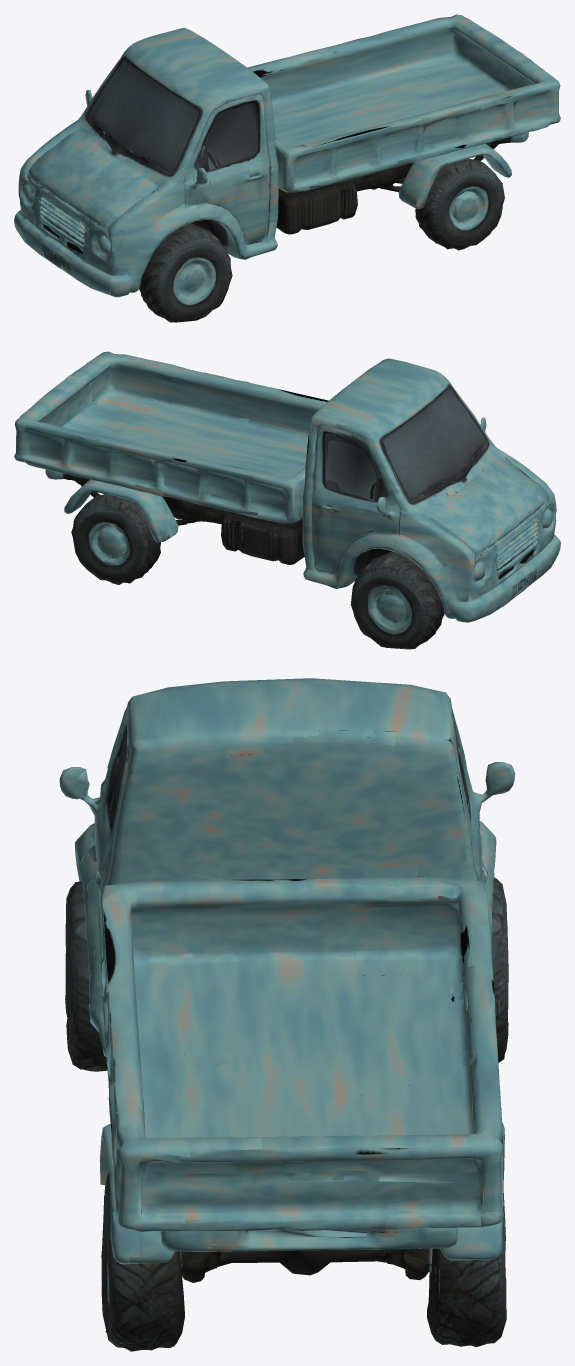
The model's file is truck.glb.
3 renders of one model, top to bottom at view 1: azimuth 30°, elevation 25°; view 2: azimuth 150°, elevation 25°; view 3: azimuth 270°, elevation 25°, orthographic. The views are drawn at different scales.
Visible parts, largest first — view 1: V17_TRUCK__TRUCK_FINAL; view 2: V17_TRUCK__TRUCK_FINAL; view 3: V17_TRUCK__TRUCK_FINAL.
Boxes of the visible parts, x1,y1,x2,y2 form: V17_TRUCK__TRUCK_FINAL: [14, 14, 560, 322]; V17_TRUCK__TRUCK_FINAL: [14, 351, 560, 649]; V17_TRUCK__TRUCK_FINAL: [59, 678, 515, 1351].
Size of the model in its own units: 4.52 by 1.98 by 1.93.
1 material, 1 textured.
